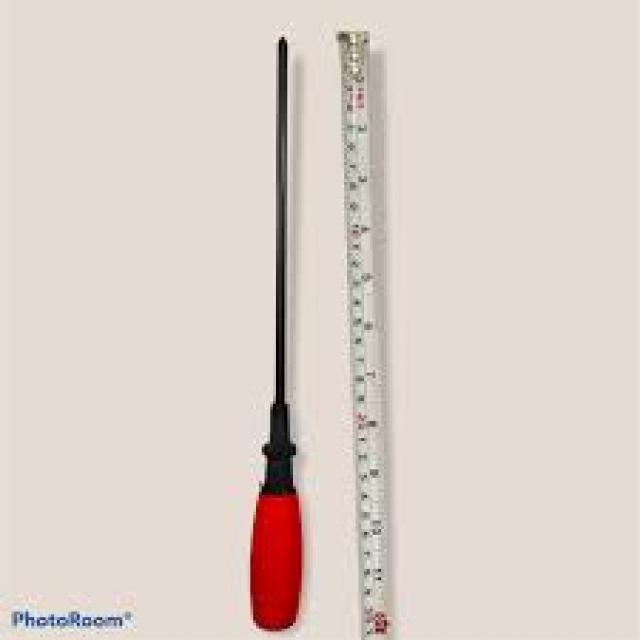screwdriver: (243, 32, 306, 636)
